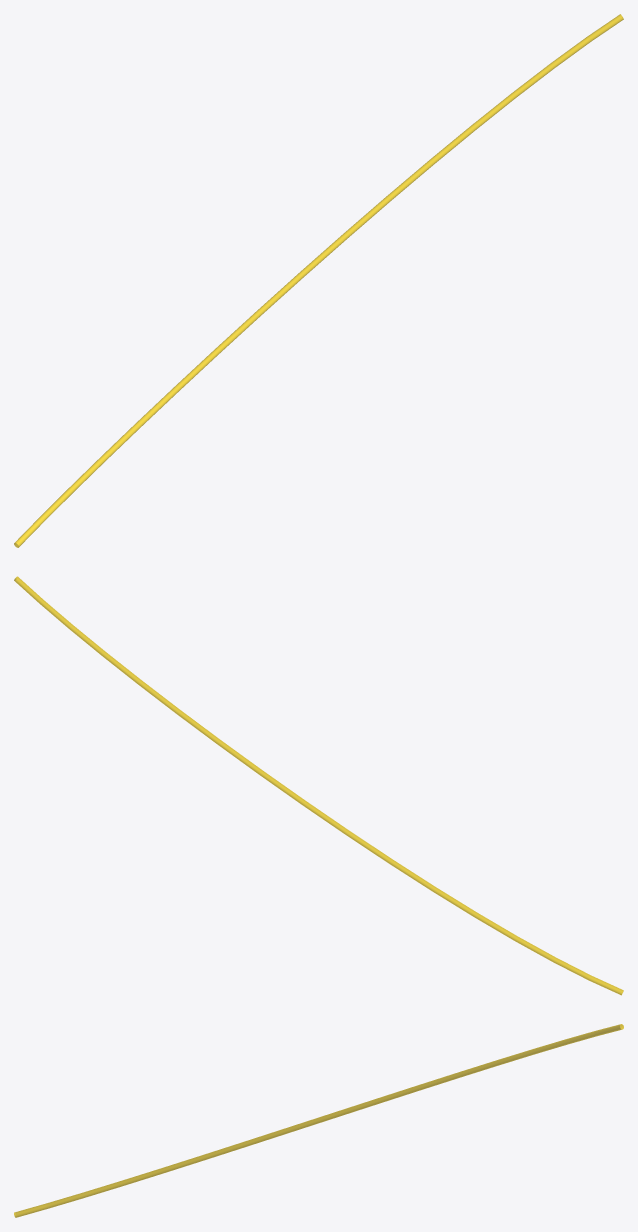
The model's file is Event_84804159_track_27.fbx.
3 views of the same model, one above another, from view 1: azimuth 30°, elevation 25°; view 2: azimuth 150°, elevation 25°; view 3: azimuth 330°, elevation 25° (orthographic). The views are drawn at different scales.
Parts seen in each view (by area): view 1: Model; view 2: Model; view 3: Model.
Boxes of the visible parts, left/top/right/bottom form: Model: left=14, top=14, right=623, bottom=547; Model: left=14, top=576, right=623, bottom=995; Model: left=14, top=1024, right=623, bottom=1217.
Bounding box in the file's own units: 4.66 × 2.38 × 0.5988.
